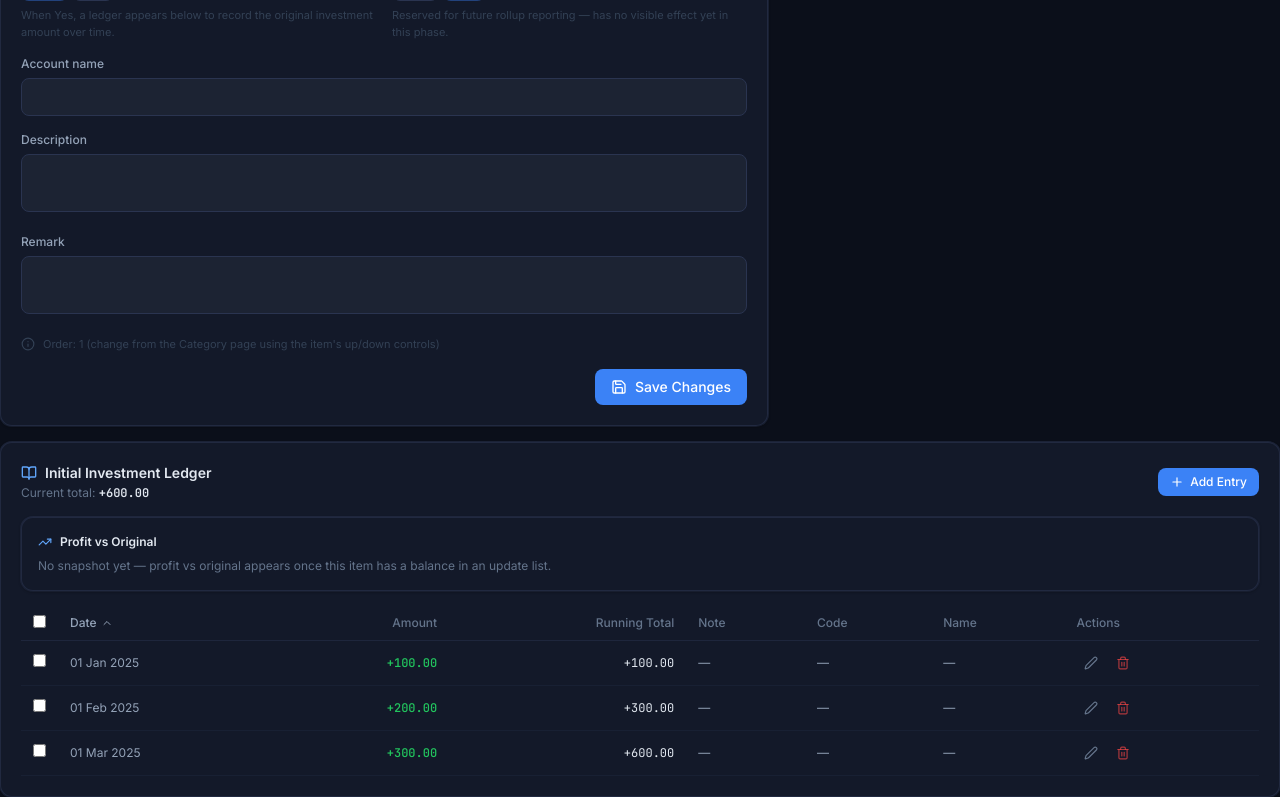
it: TrackingItemDetailPage — Ledger multi-select & bulk delete › selects individual rows via their checkboxes
(page scrolled)
Expected: the column heading "Date" is shown, x1=58 y1=606 x2=277 y2=640
Click the checkbox named "Select entry on 01 Jan 2025".
click(40, 660)  # box x1=33 y1=654 x2=46 y2=667
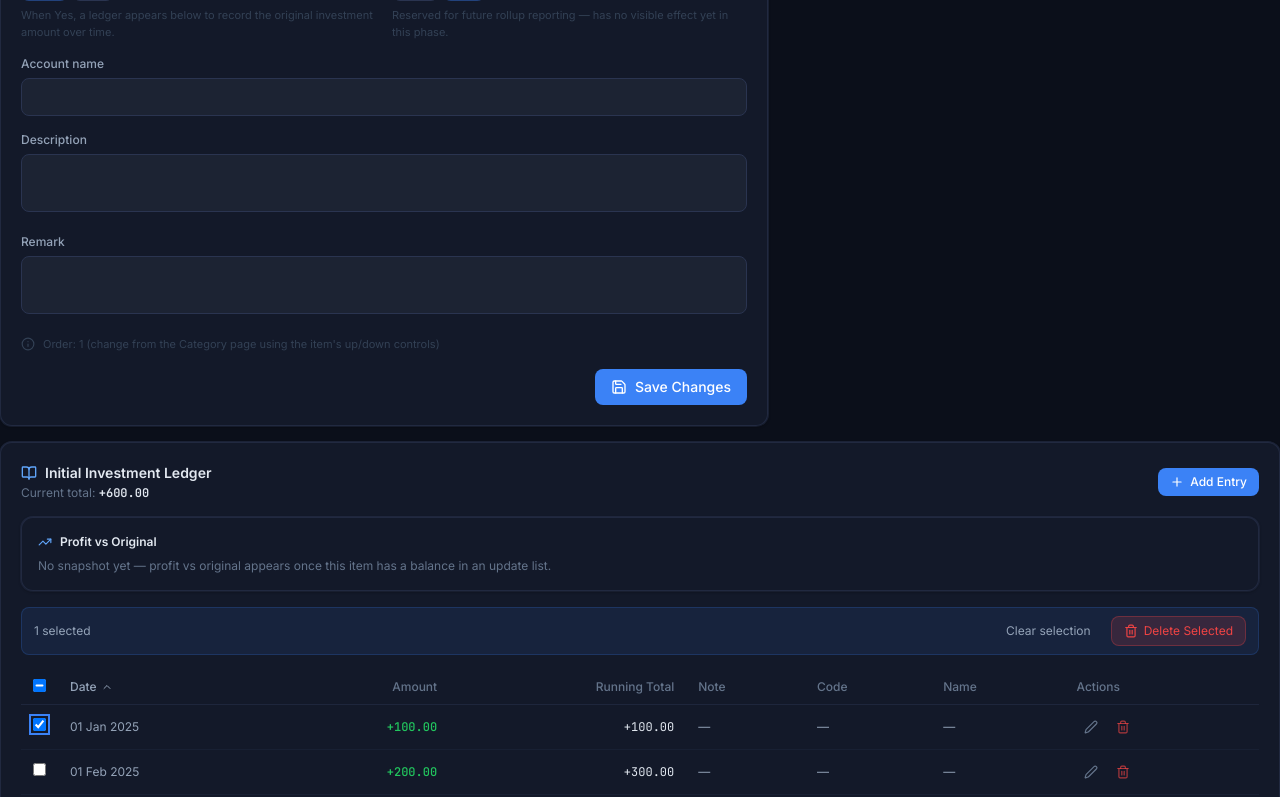
Now the checkbox named "Select entry on 01 Jan 2025" is checked, box x1=33 y1=718 x2=46 y2=731
Now the text "1 selected" is shown, box x1=34 y1=622 x2=90 y2=638
Click the checkbox named "Select entry on 01 Feb 2025".
click(40, 770)  # box x1=33 y1=763 x2=46 y2=776
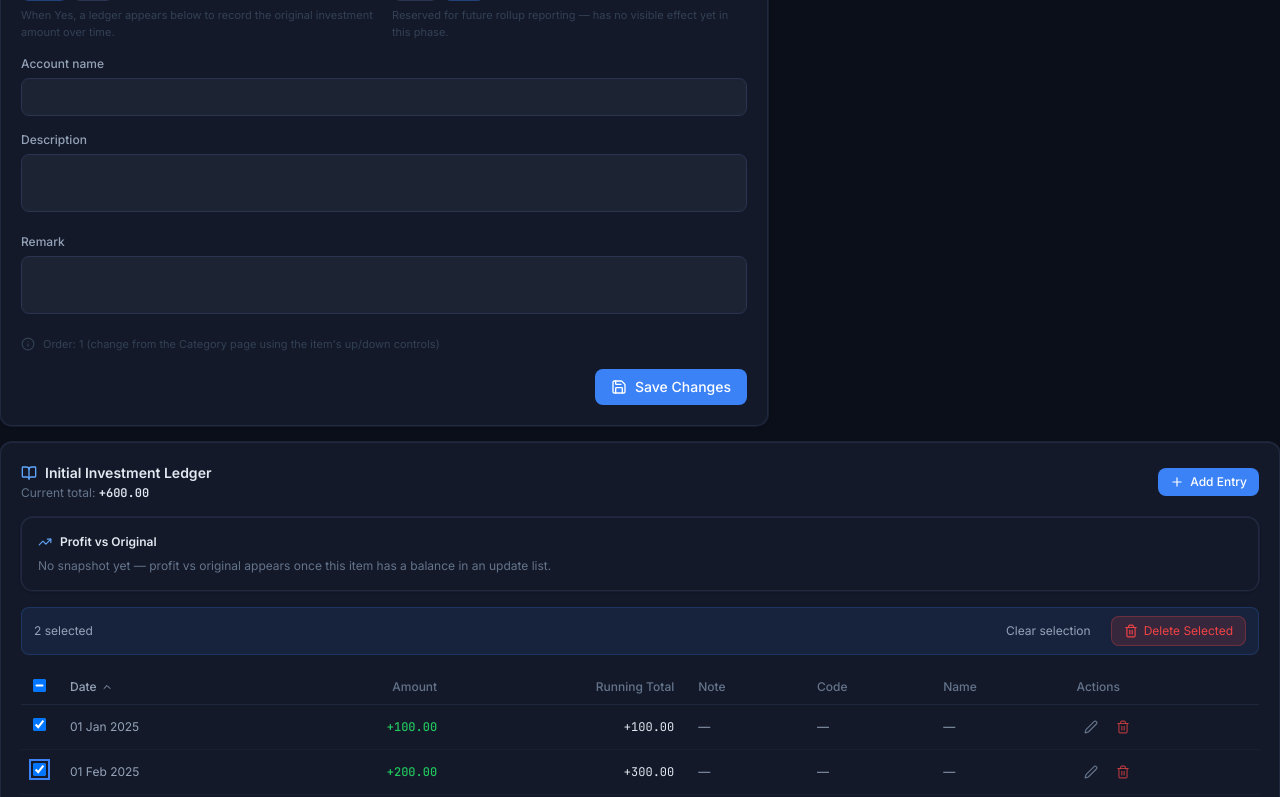
Now the text "2 selected" is shown, box x1=34 y1=622 x2=93 y2=638
